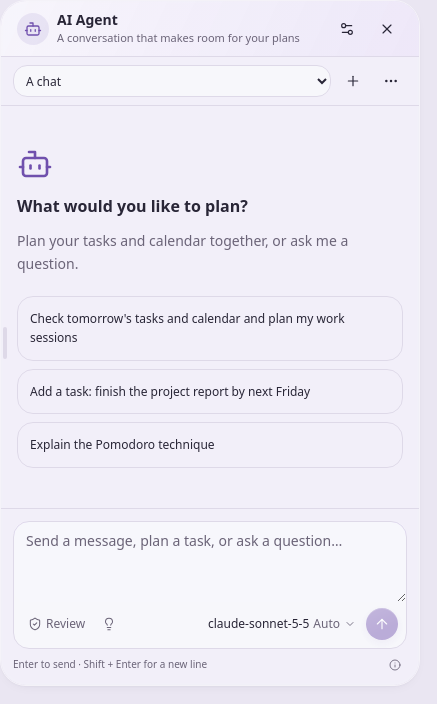
Test case: AI Agent sidebar › supports ordinary chat without proposing or applying changes
Type "Explain Pomodoro" into the text box named "Message AI Agent" at (210,562), box [14, 522, 406, 602]
Then press Enter
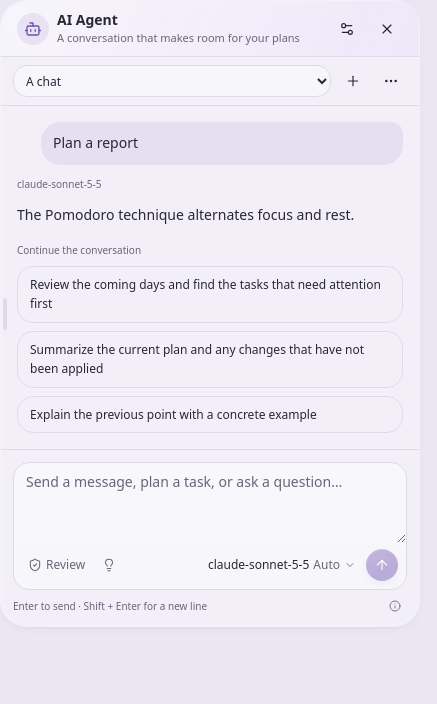
Now the text "The Pomodoro technique alternates focus and rest." is shown, box [17, 204, 403, 227]
